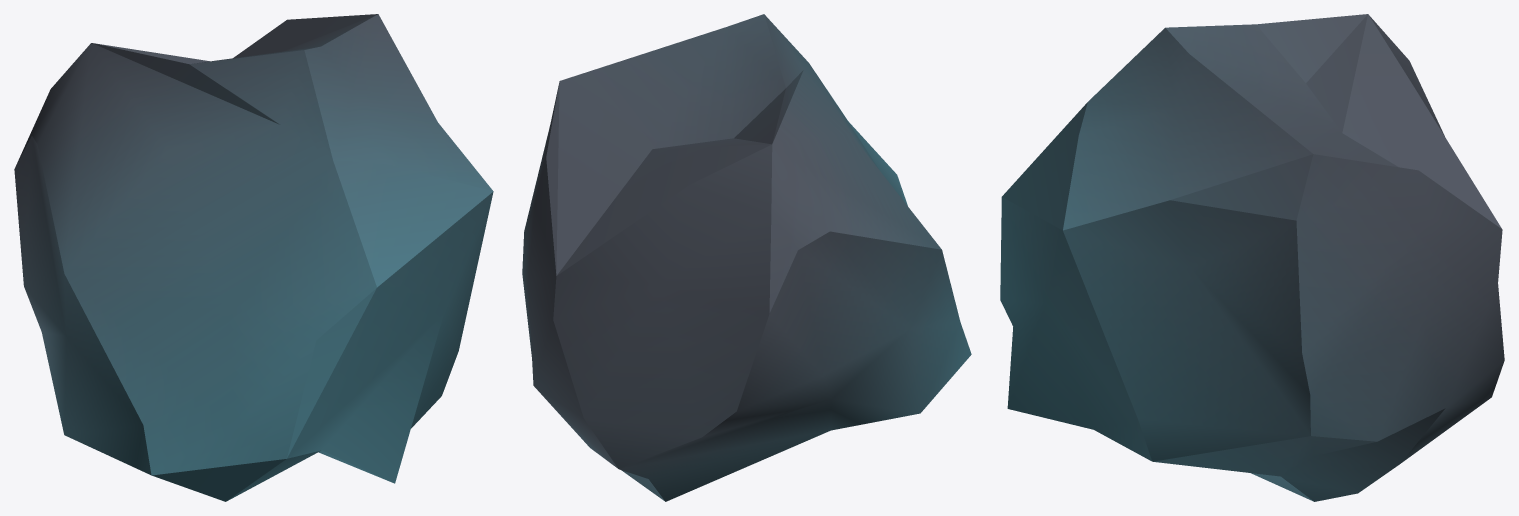
The model's file is Stone_1b.fbx.
3 views of the same model, side by side, from view 1: azimuth 30°, elevation 25°; view 2: azimuth 150°, elevation 25°; view 3: azimuth 270°, elevation 25° (orthographic). The views are drawn at different scales.
Visible parts, largest first — view 1: Stone_1b; view 2: Stone_1b; view 3: Stone_1b.
Boxes of the visible parts, box(x1,y1,x2,y2) form: Stone_1b: box(14, 14, 493, 501); Stone_1b: box(522, 14, 971, 501); Stone_1b: box(1000, 14, 1504, 501).
Bounding box in the file's own units: 13.9 × 15.17 × 14.91.
